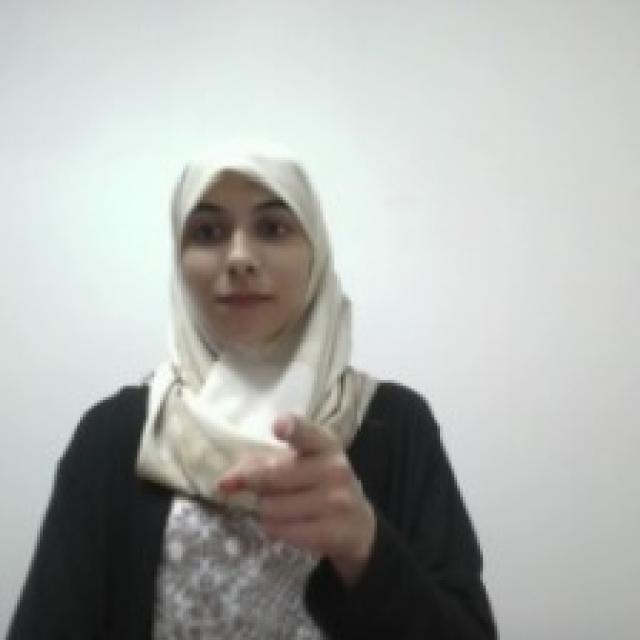you: (212, 407, 367, 555)
